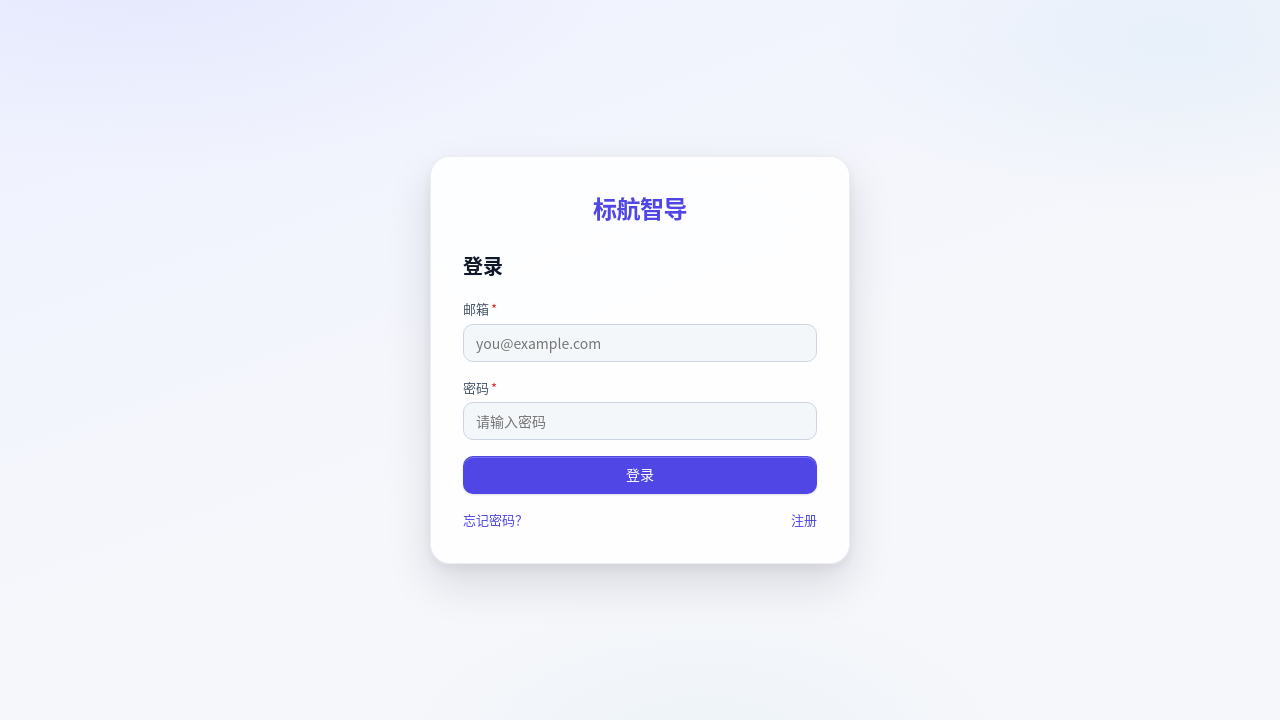
Test: LoginPage › 登录失败展示后端中文错误
This screenshot has width=1280, height=720.
In the field with placeholder "you@example.com": (640, 342) 463,324 -> 817,362, type "a@b.com"
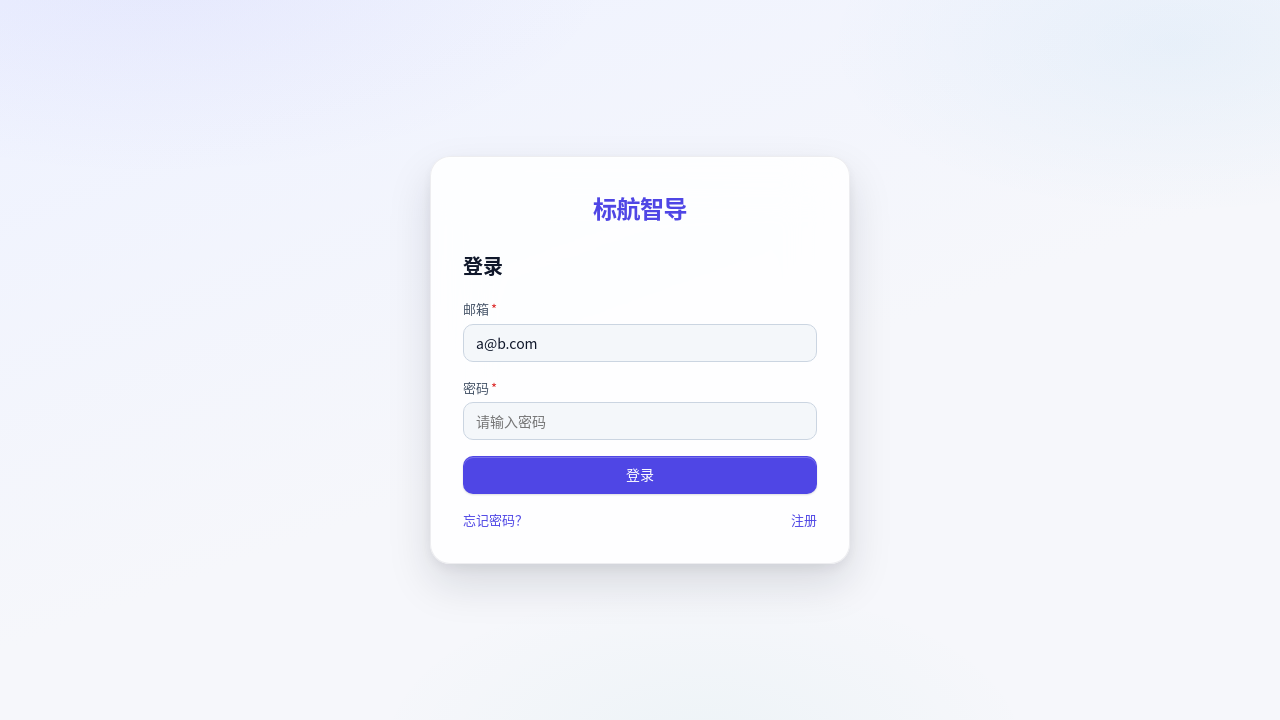
In the password field with placeholder "请输入密码": (640, 421) 463,402 -> 817,440, type "wrong-pass1"
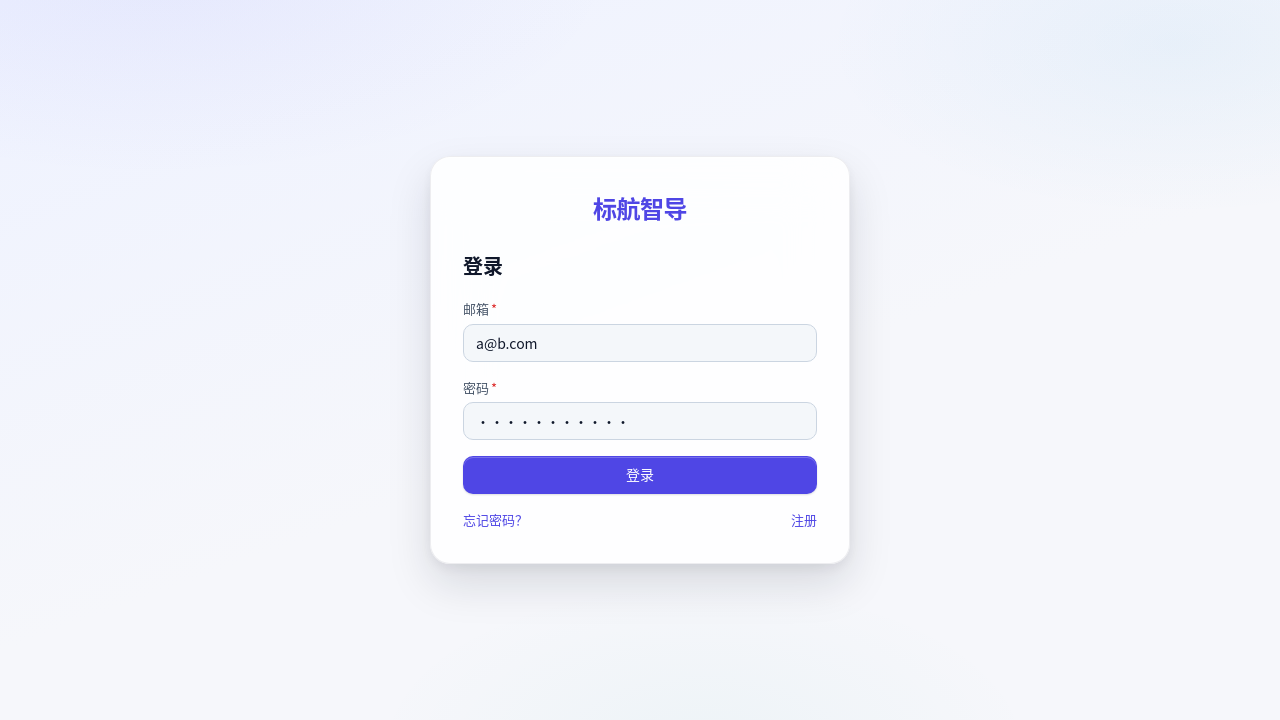
Click the button "登录": (640, 475) 463,456 -> 817,494
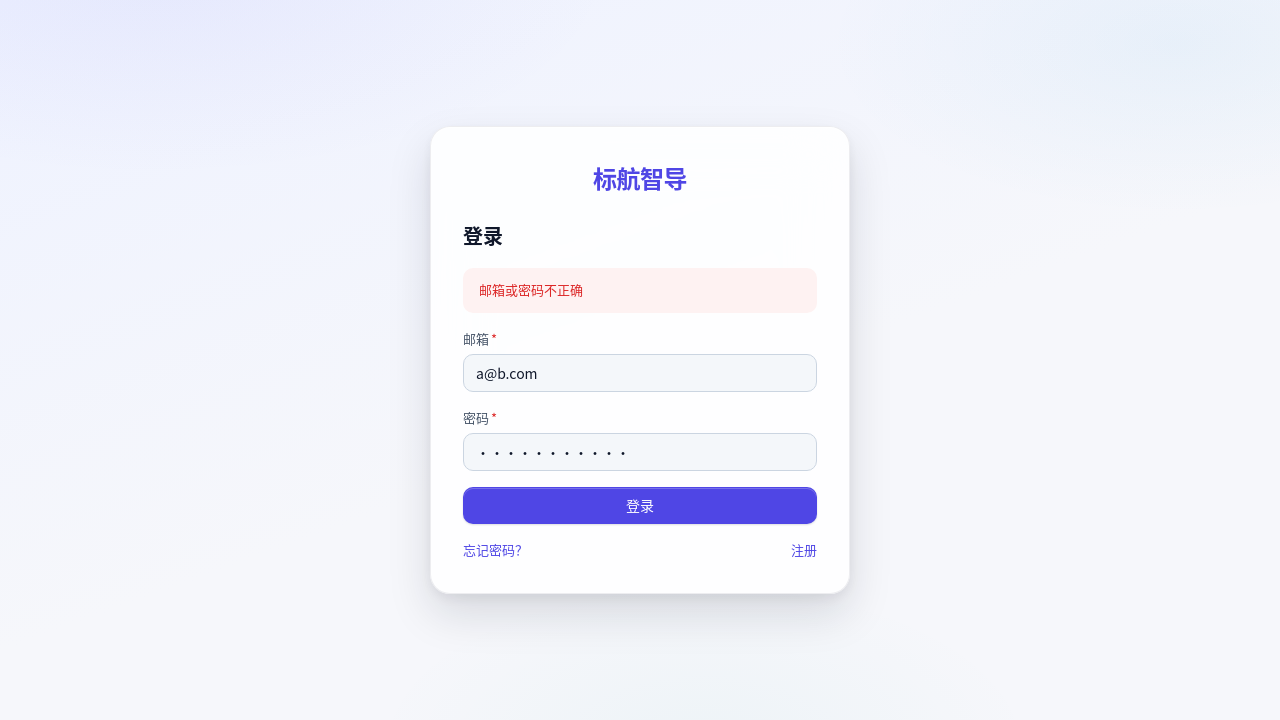
Now the text "邮箱或密码不正确" is shown, box 463,268 -> 817,313
